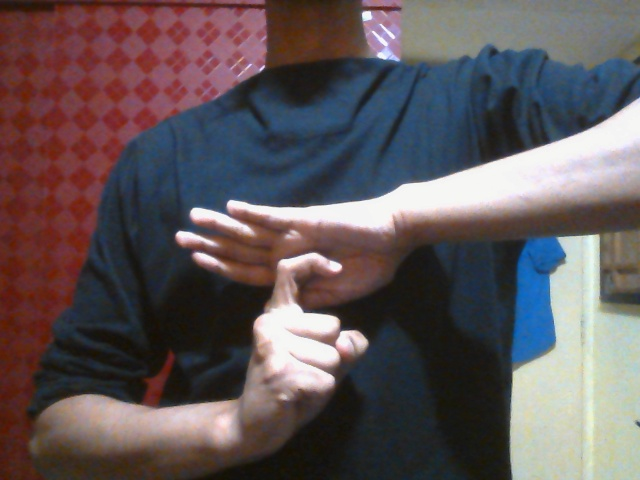R: (174, 195, 409, 441)
